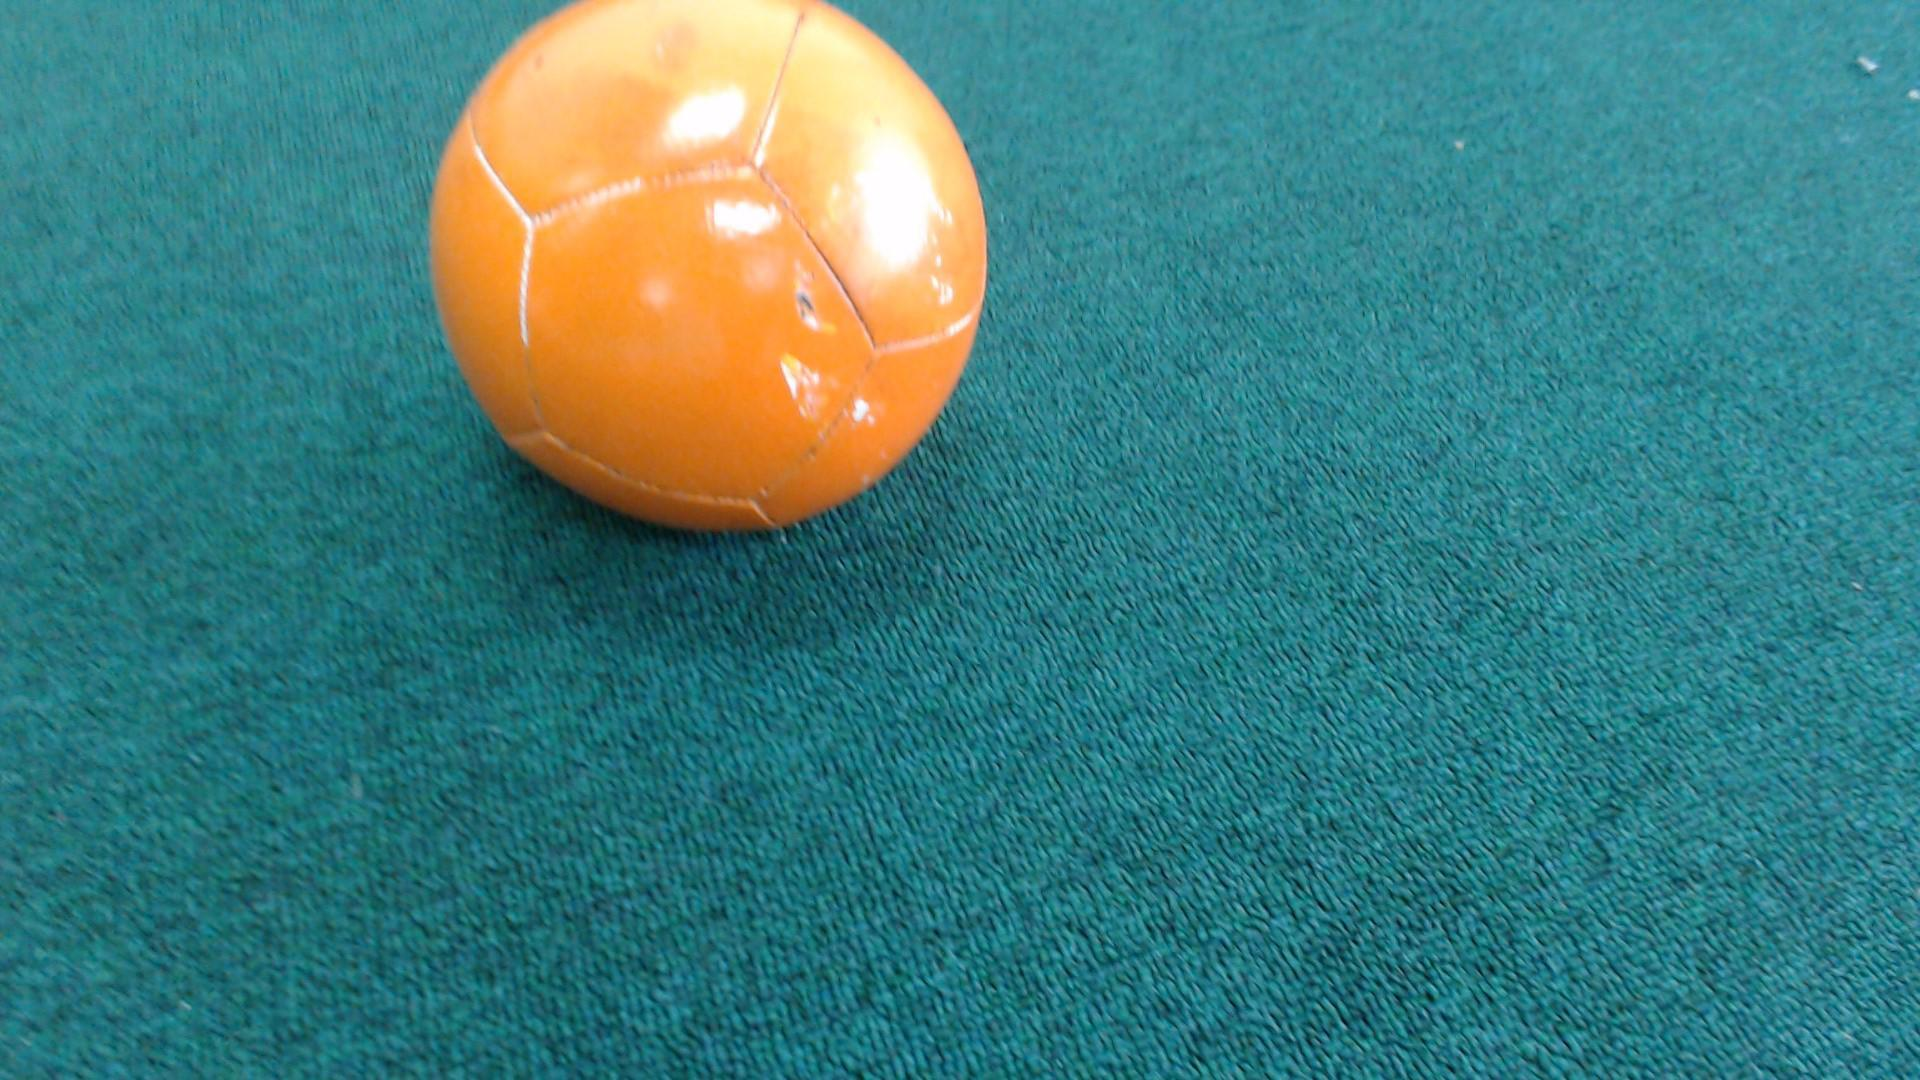bola: (392, 0, 1015, 582)
